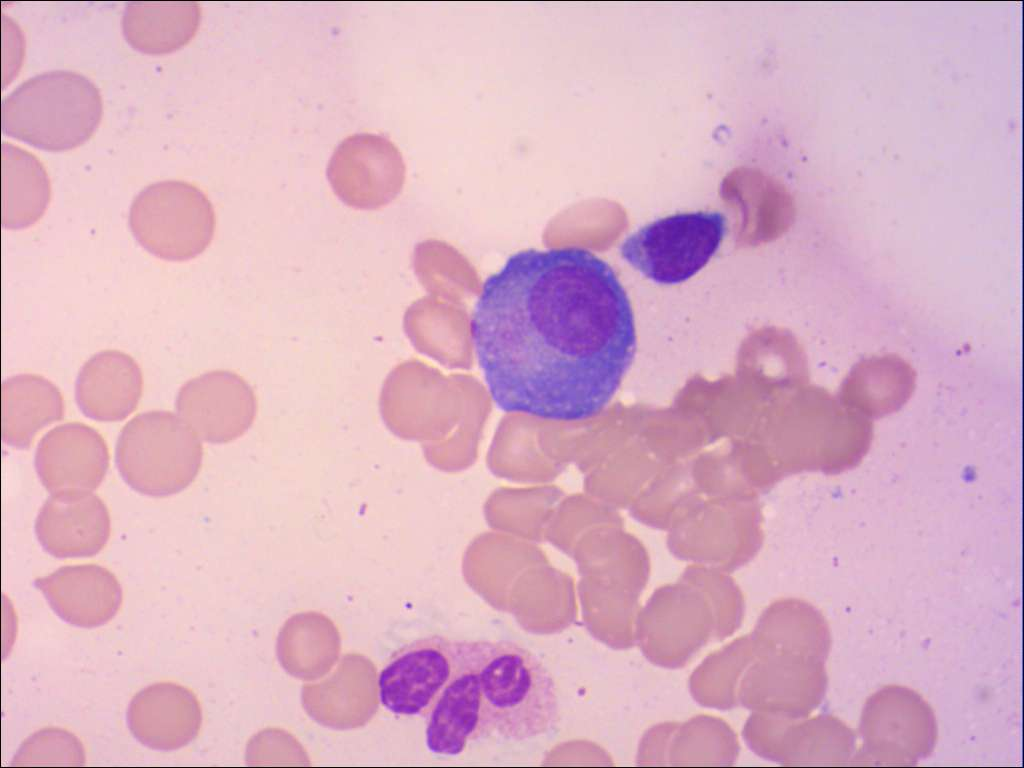32: (614, 205, 731, 291)
51: (467, 242, 639, 425)
x: (371, 629, 563, 761)
